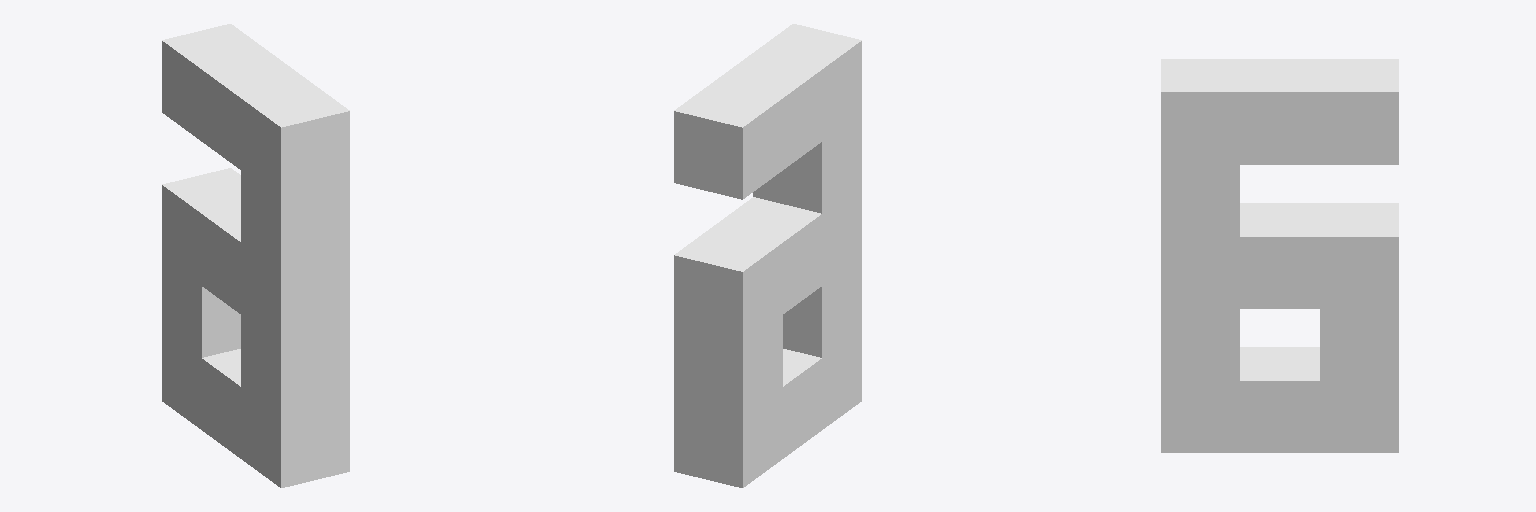
Rendered from nowruz-display-4.obj.
3 views of the same model, side by side, from view 1: azimuth 30°, elevation 25°; view 2: azimuth 150°, elevation 25°; view 3: azimuth 270°, elevation 25° (orthographic).
Parts seen in each view (by area): view 1: object 1; view 2: object 1; view 3: object 1.
Part boxes in pixels (left/top/right/bottom): object 1: left=162, top=24, right=349, bottom=487; object 1: left=674, top=24, right=861, bottom=487; object 1: left=1161, top=59, right=1398, bottom=452.
Bounding box in the file's own units: 0.1 × 0.5 × 0.3.